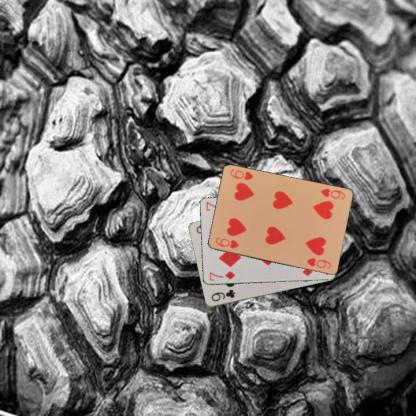6h: (318, 186, 346, 201), (213, 235, 240, 250)
7d: (207, 269, 236, 282)
9c: (209, 287, 236, 303)
